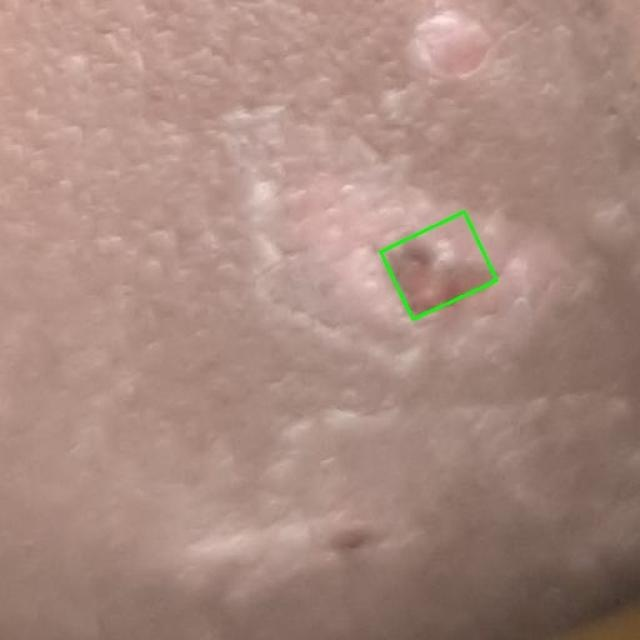Contact Dermatitis: (381, 212, 497, 320)
